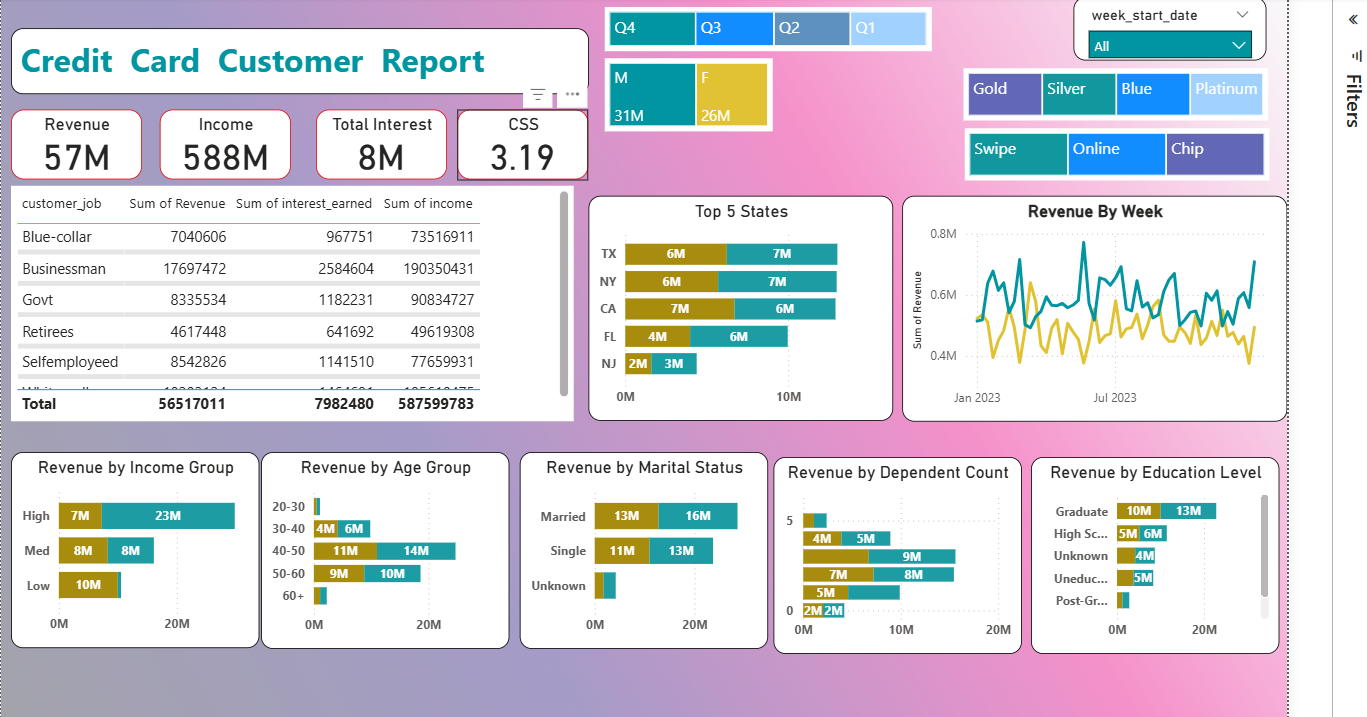

The page's visual inventory and layout, read from the dashboard file:
{"tool":"powerbi","page":{"name":"CC.Customer","canvas":[1280,720],"ordinal":2},"visuals":[{"type":"textbox","box":[9.6,31.6,575,65.9],"z":0},{"type":"barChart","title":"Revenue by Income Group","fields":{"Y":["Sum(public cc_detail.Revenue)"],"Category":["public cust_detail.IncomeGroup"],"Series":["public cust_detail.gender"]},"box":[9.6,452.8,247,195],"z":1000},{"type":"tableEx","fields":{"Values":["public cust_detail.customer_job","Sum(public cc_detail.Revenue)","Sum(public cc_detail.interest_earned)","Sum(public cust_detail.income)"]},"box":[9.6,188,559.9,234.6],"z":2000},{"type":"card","title":"Revenue","fields":{"Values":["Sum(public cc_detail.Revenue)"]},"box":[9.6,112.5,130.4,70],"z":3000},{"type":"card","title":"Income","fields":{"Values":["Sum(public cust_detail.income)"]},"box":[157.8,112.5,130.4,70],"z":4000},{"type":"card","title":"Total Interest","fields":{"Values":["Sum(public cc_detail.interest_earned)"]},"box":[312.9,112.5,130.4,70],"z":5000},{"type":"card","title":"CSS","fields":{"Values":["Avg(public cust_detail.cust_satisfaction_score)"]},"box":[454.2,112.5,130.4,70],"z":6000},{"type":"slicer","fields":{"Values":["public cc_detail.week_start_date"]},"box":[1067.6,0,192.1,63.1],"z":7000},{"type":"treemap","fields":{"Group":["public cc_detail.qtr"],"Values":["Avg(public cust_detail.client_num)"]},"box":[601,9.6,325.2,43.9],"z":8000},{"type":"treemap","fields":{"Group":["public cc_detail.card_category"],"Values":["Avg(public cust_detail.client_num)"]},"box":[957.8,71.4,303.3,52.1],"z":9000},{"type":"lineChart","title":"Revenue By Week","fields":{"Y":["Sum(public cc_detail.Revenue)"],"Series":["public cust_detail.gender"],"Category":["public cc_detail.week_start_date.Variation.Date Hierarchy.Year","public cc_detail.week_start_date.Variation.Date Hierarchy.Month","public cc_detail.week_start_date.Variation.Date Hierarchy.Day"]},"box":[897.4,197.6,382.8,225],"z":10000},{"type":"treemap","fields":{"Group":["public cust_detail.gender"],"Values":["Sum(public cc_detail.Revenue)"]},"box":[601,60.4,167.4,72.7],"z":11000},{"type":"barChart","title":"Revenue by Age Group","fields":{"Y":["Sum(public cc_detail.Revenue)"],"Category":["public cust_detail.AgeGroup"],"Series":["public cust_detail.gender"]},"box":[259.2,452.4,247,195.7],"z":12000},{"type":"barChart","title":"Revenue by Dependent Count","fields":{"Y":["Sum(public cc_detail.Revenue)"],"Category":["public cust_detail.dependent_count"],"Series":["public cust_detail.gender"]},"box":[769.2,457.3,247,195.7],"z":13000},{"type":"barChart","title":"Revenue by Education Level","fields":{"Y":["Sum(public cc_detail.Revenue)"],"Category":["public cust_detail.education_level"],"Series":["public cust_detail.gender"]},"box":[1024.7,457.3,247,195.7],"z":14000},{"type":"barChart","title":"Top 5 States","fields":{"Y":["Sum(public cc_detail.Revenue)"],"Category":["public cust_detail.state_cd"],"Series":["public cust_detail.gender"]},"box":[584.6,197.6,303.3,223.7],"z":15000},{"type":"barChart","title":"Revenue by Marital Status","fields":{"Y":["Sum(public cc_detail.Revenue)"],"Category":["public cust_detail.marital_status"],"Series":["public cust_detail.gender"]},"box":[516,452.4,247,195.7],"z":16000},{"type":"treemap","fields":{"Group":["public cc_detail.use_chip"],"Values":["Avg(public cust_detail.client_num)"]},"box":[959.2,130.4,303.3,52.1],"z":17000}]}

Visuals, with their boxes in screenshot pixels (x1, y1, x2, y2):
textbox: (left=3, top=21, right=587, bottom=88)
"Revenue by Income Group" barChart: (left=3, top=449, right=254, bottom=648)
tableEx - public cust_detail.customer_job x Sum(public cc_detail.Revenue): (left=3, top=180, right=572, bottom=419)
"Revenue" card: (left=3, top=104, right=135, bottom=175)
"Income" card: (left=153, top=104, right=286, bottom=175)
"Total Interest" card: (left=311, top=104, right=443, bottom=175)
"CSS" card: (left=454, top=104, right=587, bottom=175)
slicer - public cc_detail.week_start_date: (left=1078, top=0, right=1273, bottom=53)
treemap - public cc_detail.qtr x Avg(public cust_detail.client_num): (left=604, top=0, right=934, bottom=44)
treemap - public cc_detail.card_category x Avg(public cust_detail.client_num): (left=966, top=62, right=1274, bottom=115)
"Revenue By Week" lineChart: (left=905, top=190, right=1294, bottom=419)
treemap - public cust_detail.gender x Sum(public cc_detail.Revenue): (left=604, top=51, right=774, bottom=125)
"Revenue by Age Group" barChart: (left=256, top=449, right=507, bottom=648)
"Revenue by Dependent Count" barChart: (left=774, top=454, right=1025, bottom=653)
"Revenue by Education Level" barChart: (left=1034, top=454, right=1285, bottom=653)
"Top 5 States" barChart: (left=587, top=190, right=895, bottom=417)
"Revenue by Marital Status" barChart: (left=517, top=449, right=768, bottom=648)
treemap - public cc_detail.use_chip x Avg(public cust_detail.client_num): (left=968, top=122, right=1276, bottom=175)
